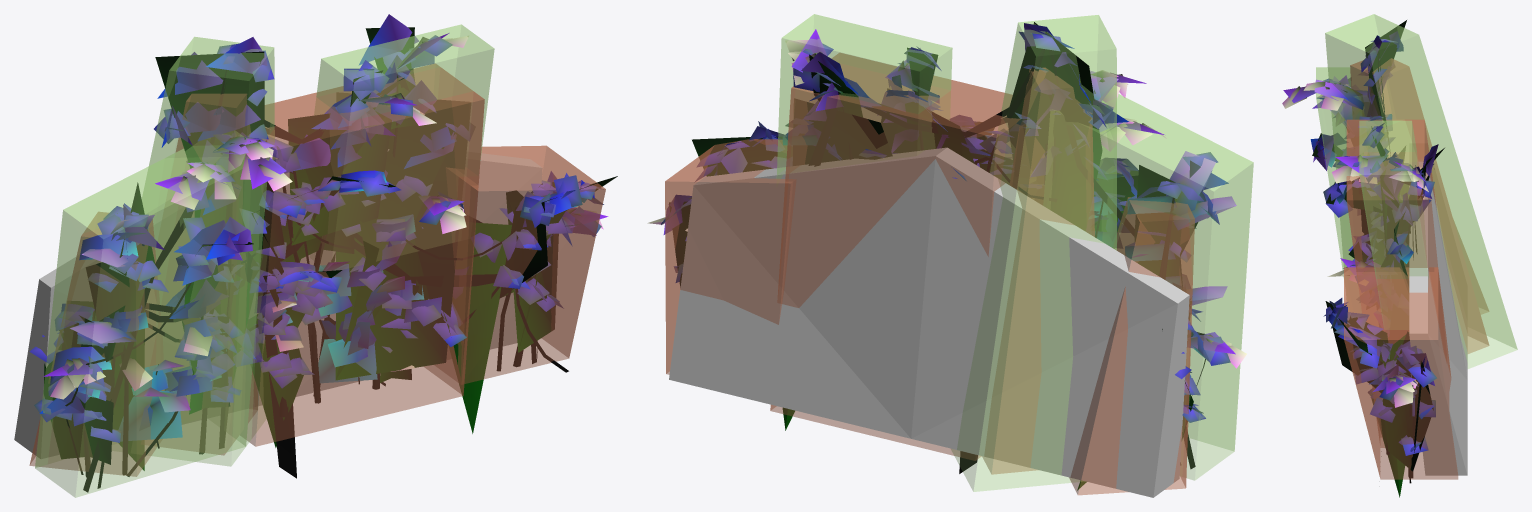
File: tro_mix_thin_wall.dae
3 renders of one model, left to right at view 1: azimuth 30°, elevation 25°; view 2: azimuth 150°, elevation 25°; view 3: azimuth 270°, elevation 25°, orthographic. The views are drawn at different scales.
Parts seen in each view (by area): view 1: Colmesh-1, tree_oak_bush_a1100, tree_oak_bush_a250; view 2: Colmesh-1, tree_oak_bush_a1100, tree_oak_bush_a250; view 3: Colmesh-1, tree_oak_bush_a1100, tree_oak_bush_a250.
Part boxes in pixels (box(x1,y1,x2,y2)): Colmesh-1: box(14, 24, 605, 497); tree_oak_bush_a1100: box(29, 14, 613, 488); tree_oak_bush_a250: box(40, 37, 617, 492); Colmesh-1: box(665, 14, 1253, 497); tree_oak_bush_a1100: box(648, 22, 1246, 490); tree_oak_bush_a250: box(647, 23, 1235, 460); Colmesh-1: box(1316, 14, 1517, 479); tree_oak_bush_a1100: box(1282, 20, 1444, 496); tree_oak_bush_a250: box(1310, 31, 1438, 497).
Size of the model in its own units: 11.8 by 5.27 by 9.07.
